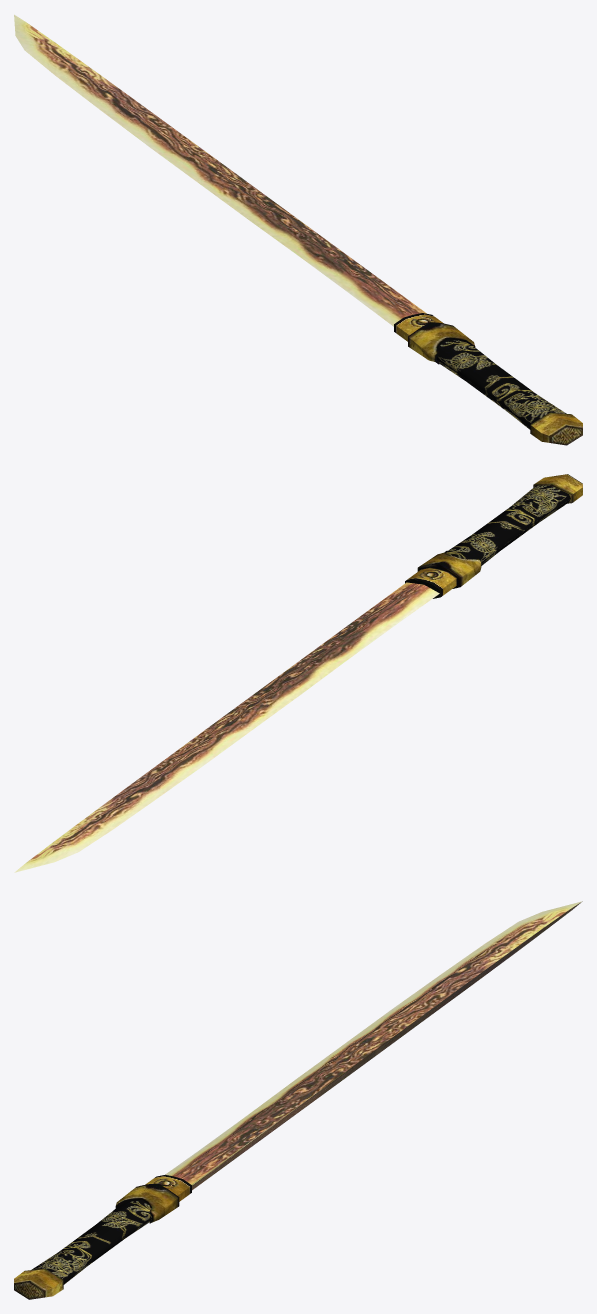
File: sword_standard_sword_1_standard_sword_1.glb
3 views of the same model, one above another, from view 1: azimuth 30°, elevation 25°; view 2: azimuth 150°, elevation 25°; view 3: azimuth 330°, elevation 25° (orthographic). The views are drawn at different scales.
Size of the model in its own units: 0.0508 by 0.0297 by 1.11.
1 material, 1 textured.
